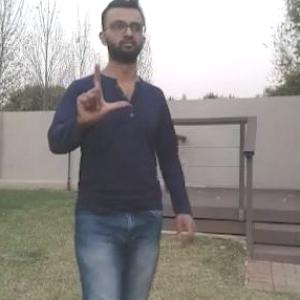land_hand: (73, 58, 129, 126)
